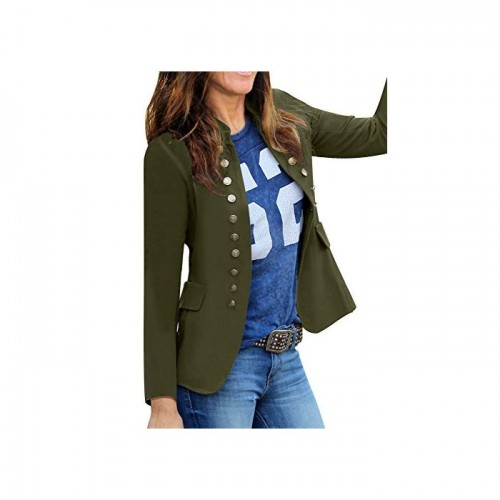F_W_suit jacket: (123, 88, 390, 369)
